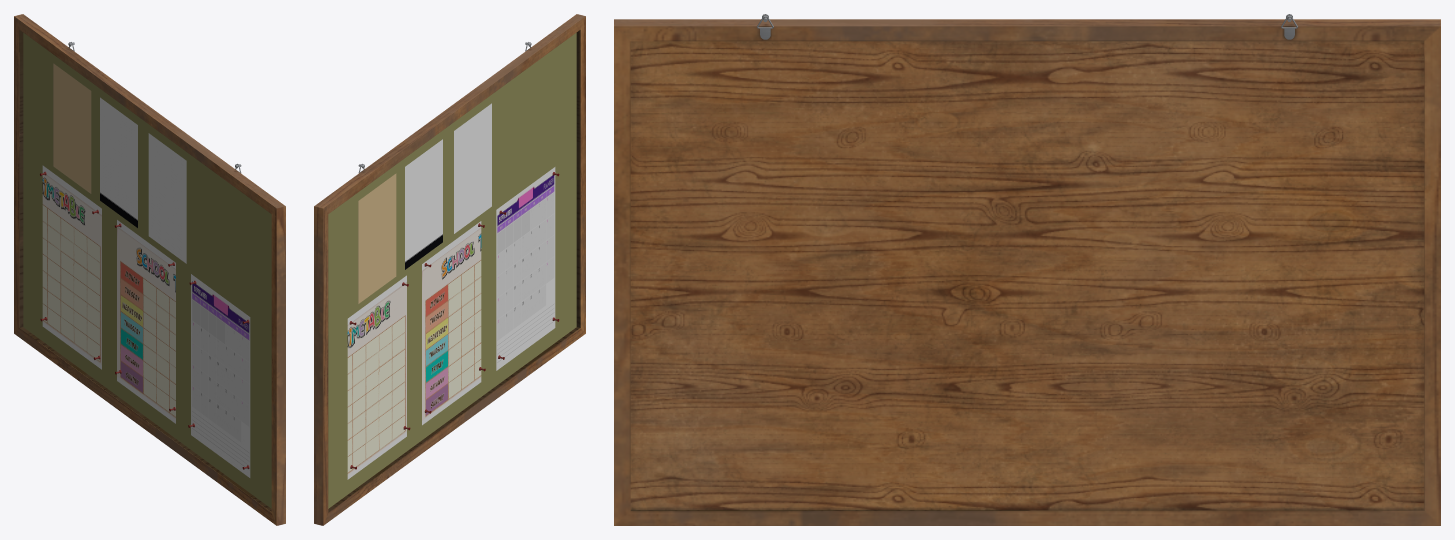
File: BulltenBoard.fbx
The picture shows the model from 3 angles, left to right: view 1: azimuth 30°, elevation 25°; view 2: azimuth 150°, elevation 25°; view 3: azimuth 270°, elevation 25°; orthographic projection. The views are drawn at different scales.
Parts seen in each view (by area): view 1: BulltenBoard; view 2: BulltenBoard; view 3: BulltenBoard.
Boxes of the visible parts, x1,y1,x2,y2 form: BulltenBoard: (14,14,285,525); BulltenBoard: (314,14,585,525); BulltenBoard: (614,14,1440,525).
Size of the model in its own units: 6.91 by 143 by 210.
